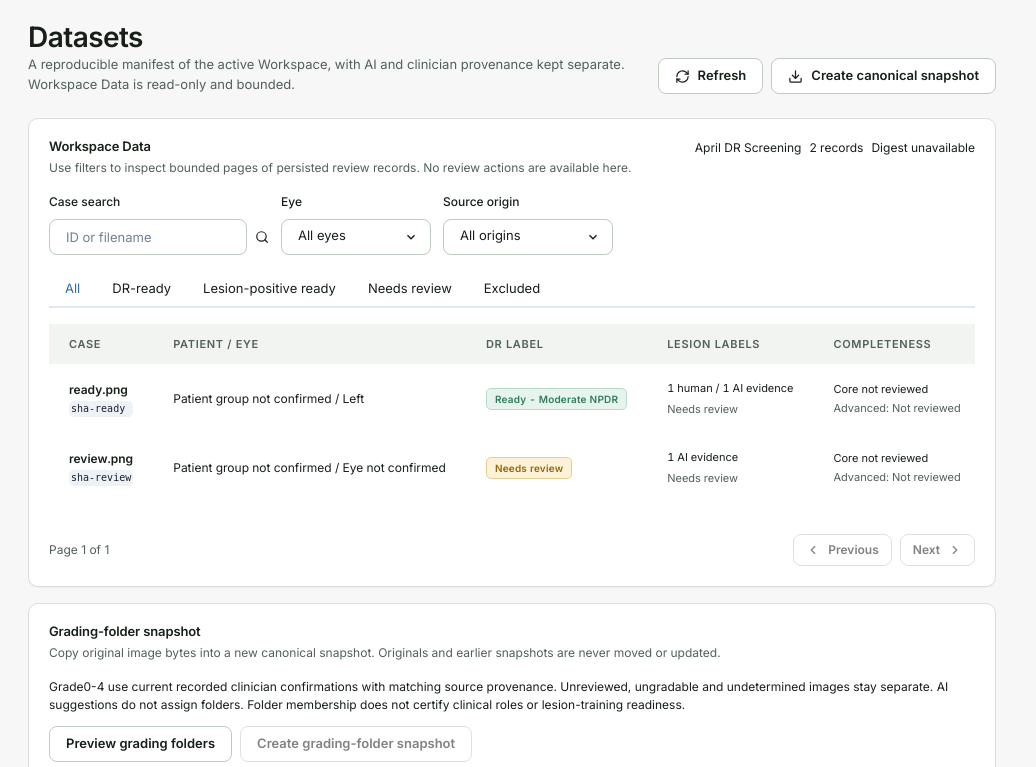
Test: Datasets page › shows active workspace scope, status views, and export action
The width and height of the screenshot is (1036, 767).
Check: the text "April DR Screening" is shown, box [695,139,801,157]
Check: the text "ready.png" is shown, box [69,381,133,399]
Click the tab "DR-ready" at (142, 289), box [96,271,187,308]
(page scrolled)
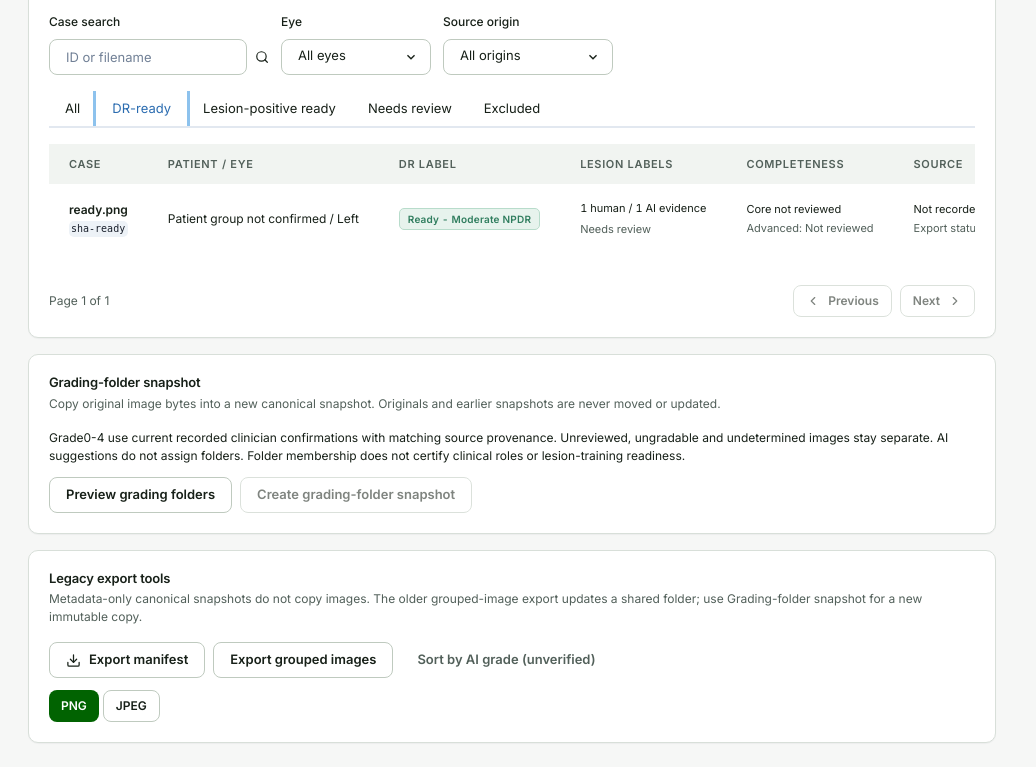
Check: the text "ready.png" is shown, box [69,201,128,219]
Check: the text "review.png" is gone
Click the button "Export manifest" at (127, 660), box [49,642,205,678]
(page scrolled)
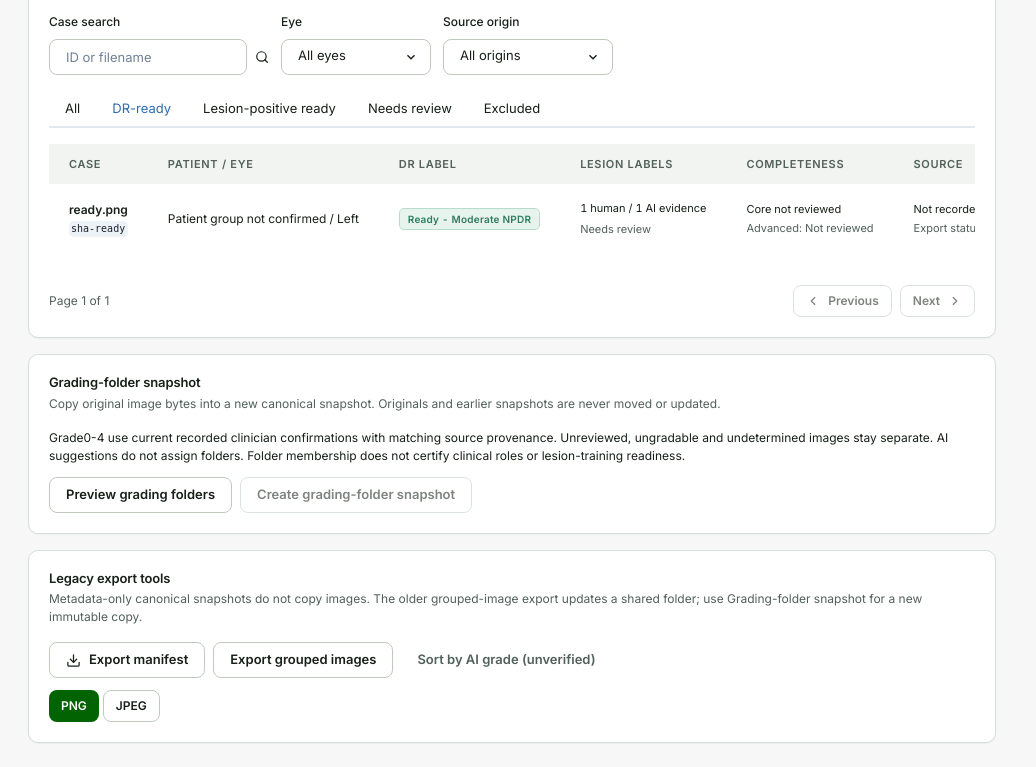
Click the button "JPEG" at (131, 706), box [103,690,160,722]
(page scrolled)
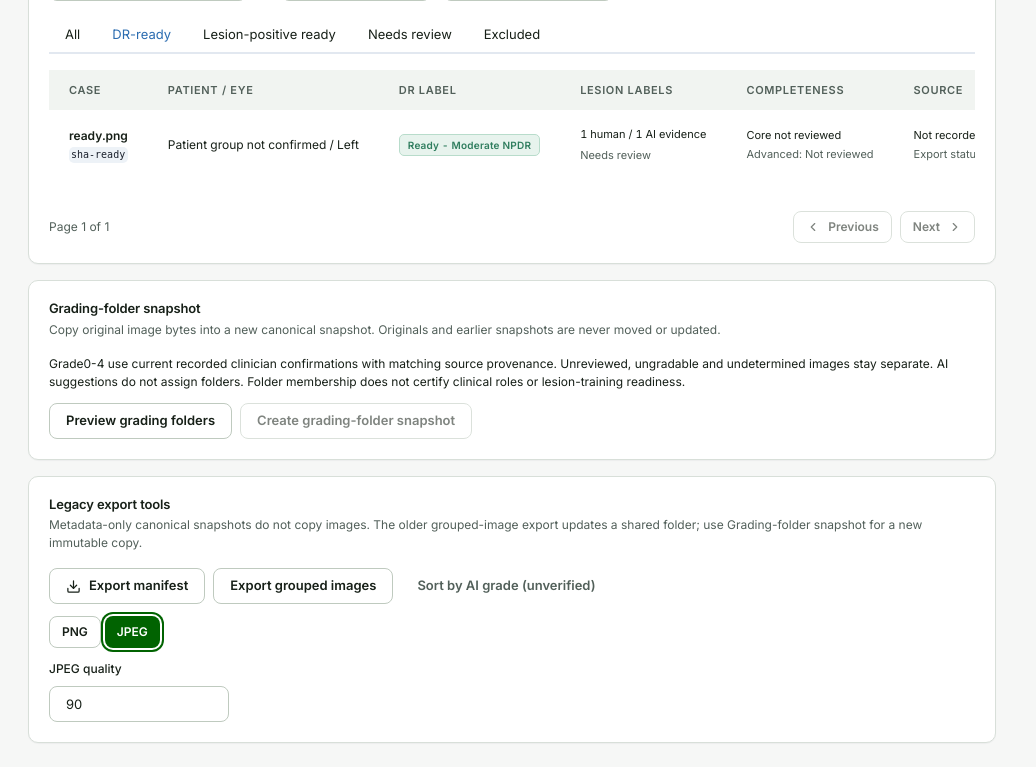
Replace the text in the number field labelled "JPEG quality" with "85" at (139, 704), box [49,686,229,722]
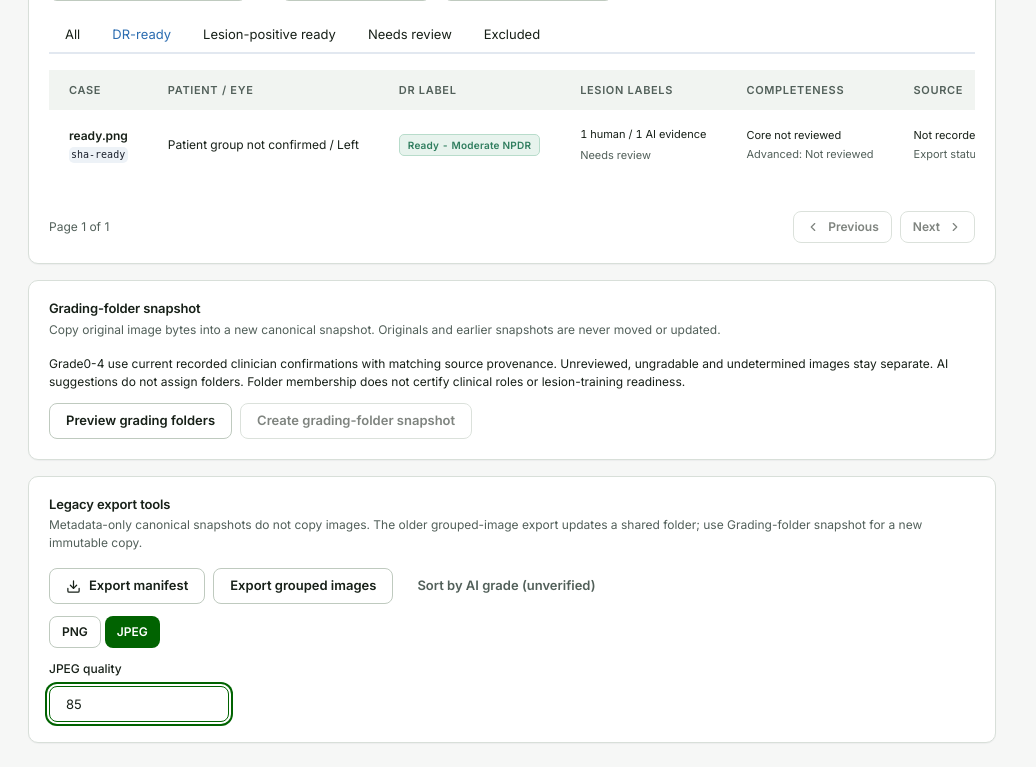
Click the button "Export grouped images" at (303, 586), box [213,568,394,604]
(page scrolled)
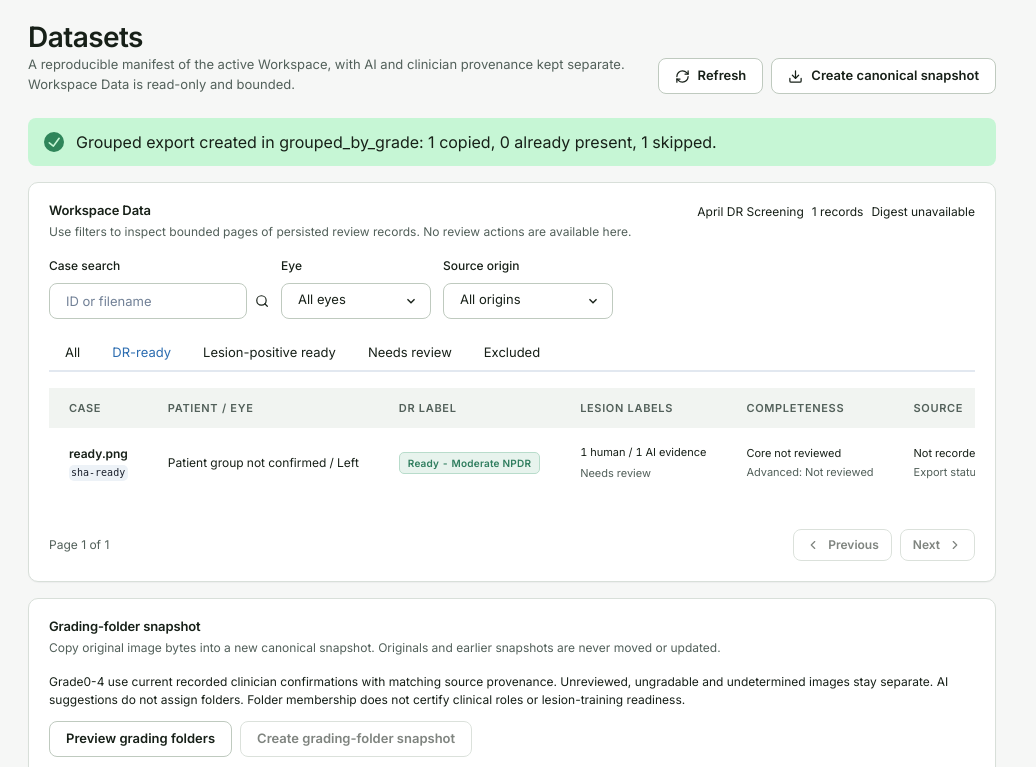
Check: the text "1 copied, 0 already present, 1 skipped" is shown, box [76,132,717,152]
